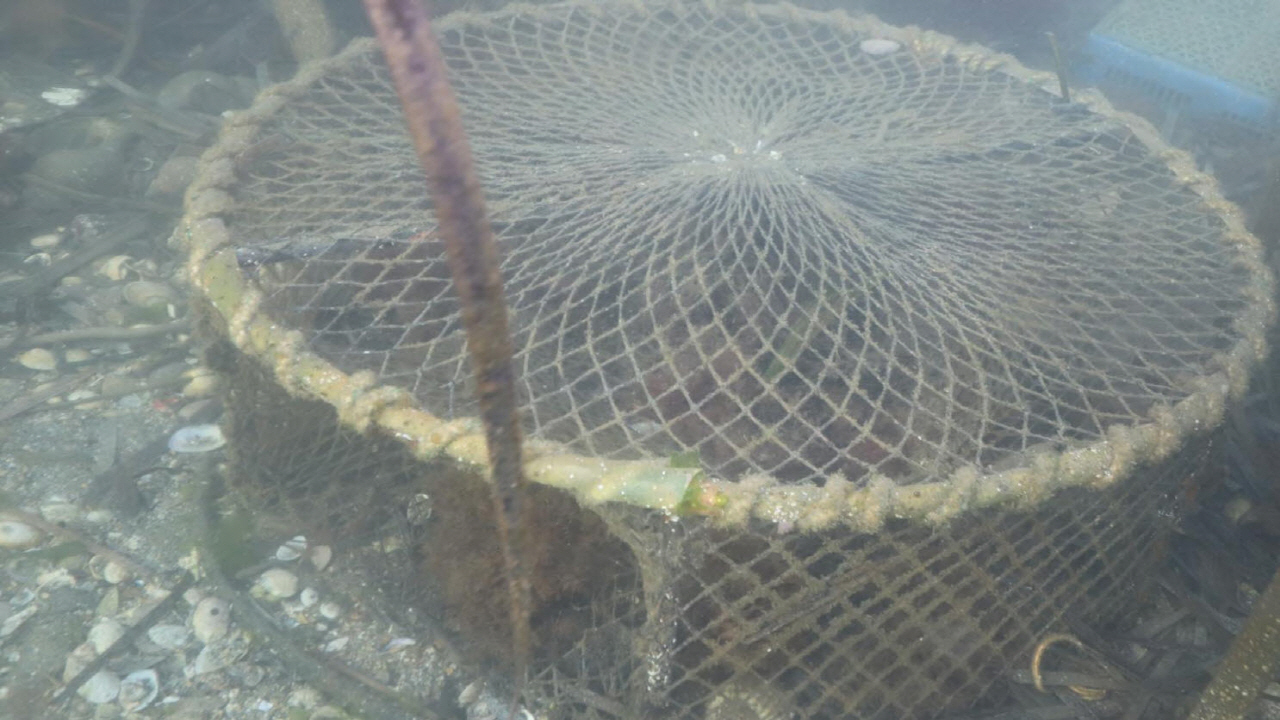circular fish trap: (181, 0, 1278, 720)
